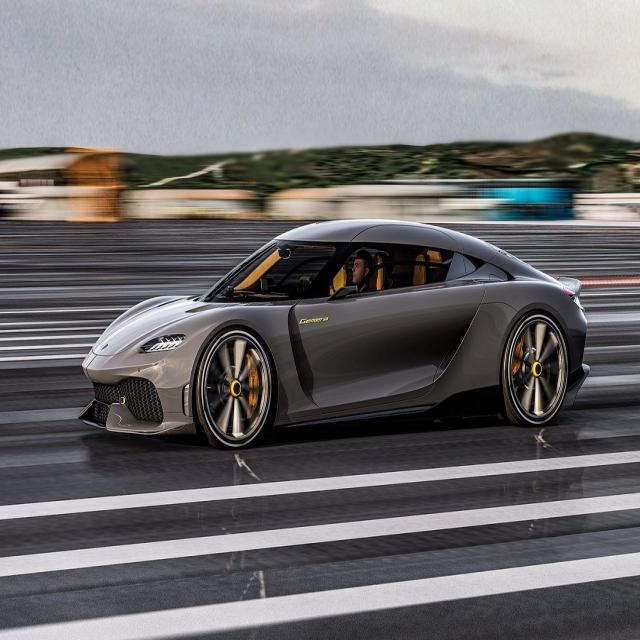car: (78, 218, 590, 450)
